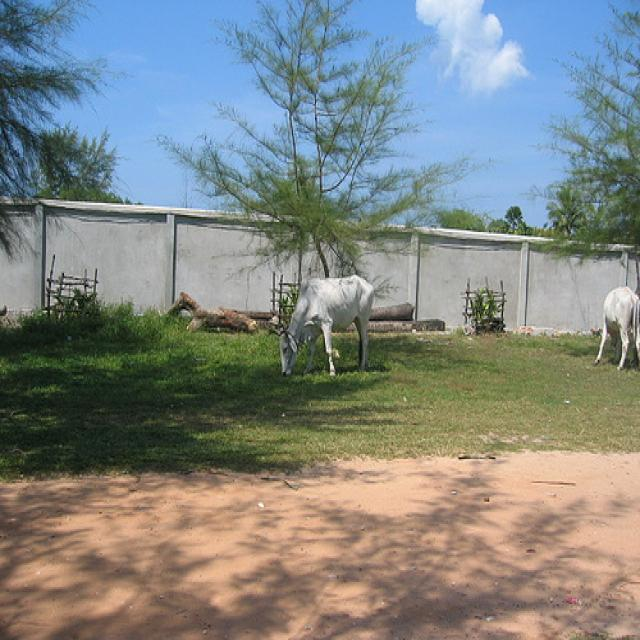cow: (278, 274, 376, 377), (595, 285, 640, 372)
